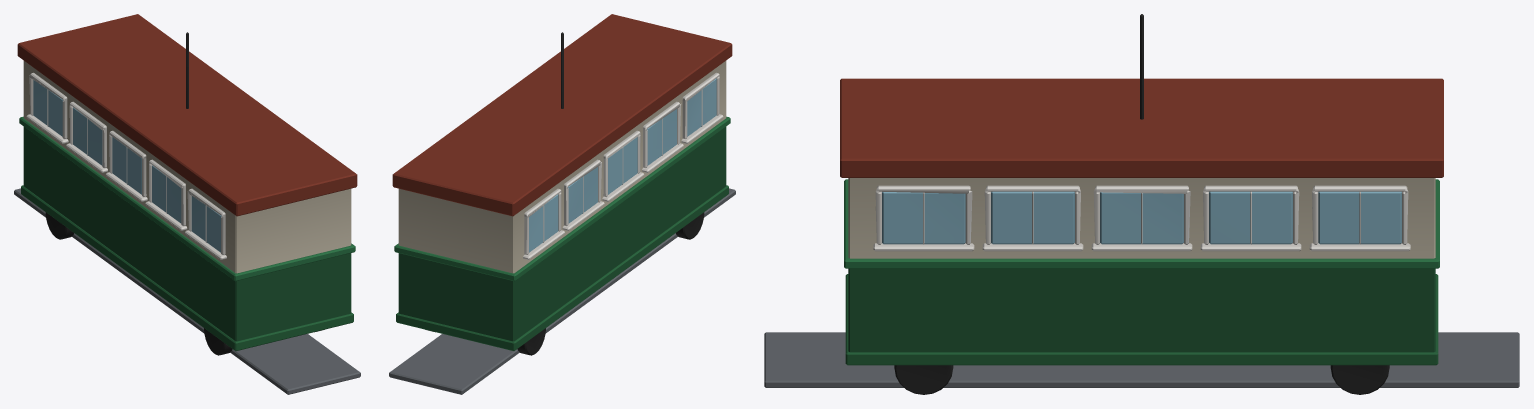
File: lm-wtram.glb
The picture shows the model from 3 angles, left to right: view 1: azimuth 30°, elevation 25°; view 2: azimuth 150°, elevation 25°; view 3: azimuth 270°, elevation 25°; orthographic projection. The views are drawn at different scales.
Bounding box in the file's own units: 2.43 × 4.6 × 9.
